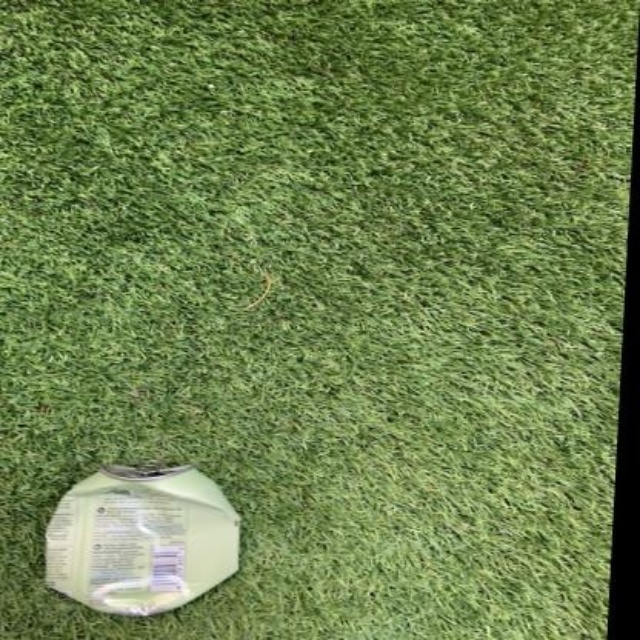trash: (46, 466, 238, 614)
